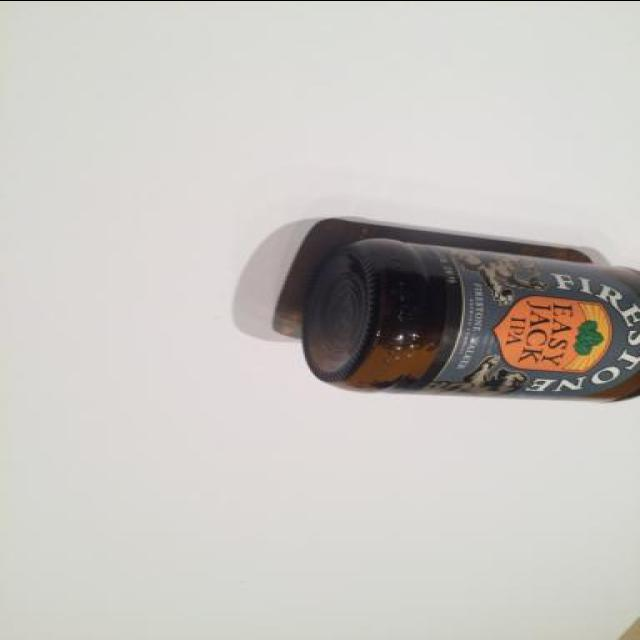litter: (298, 236, 638, 404)
